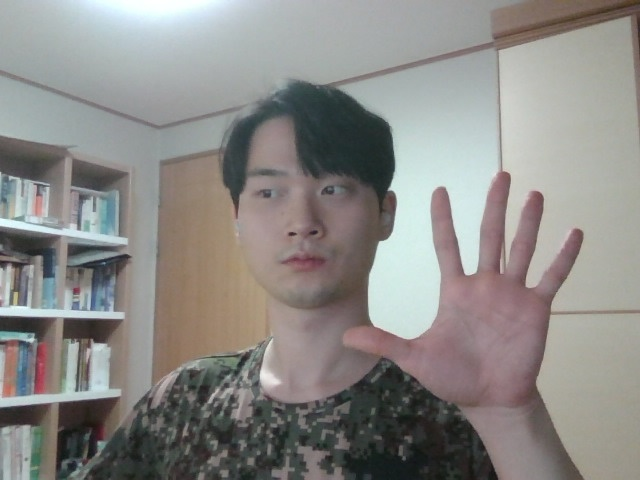hello: (333, 153, 596, 412)
